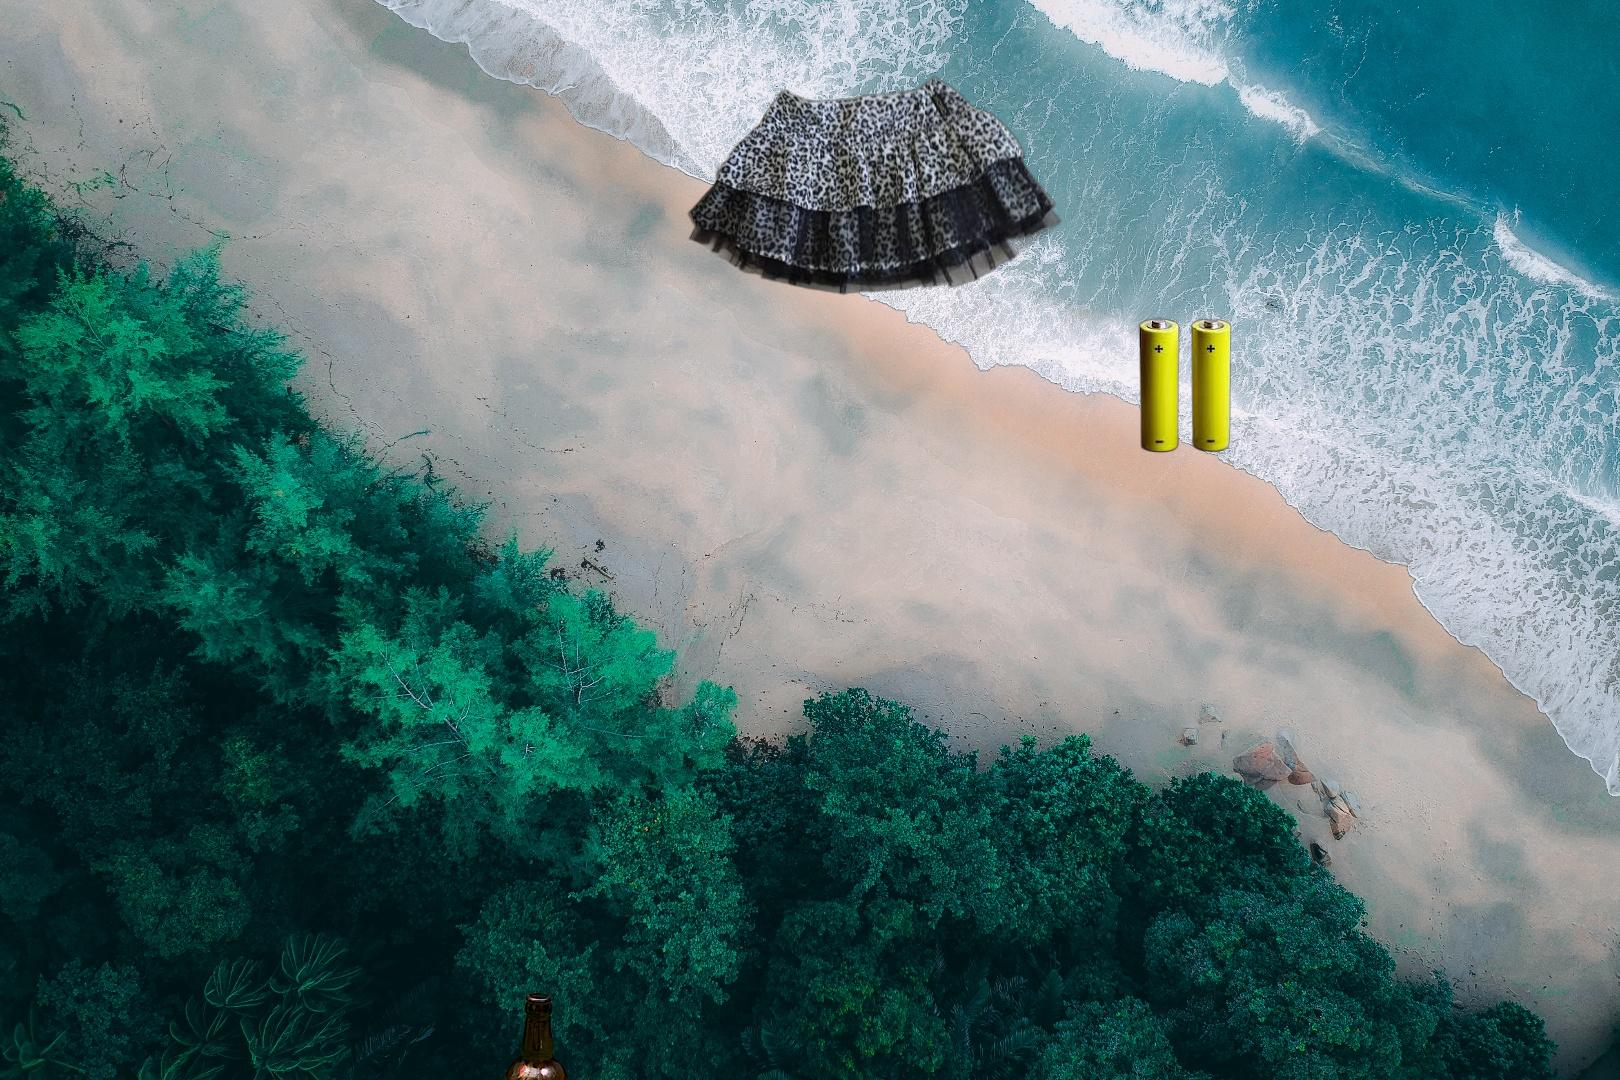battery: (1137, 315, 1234, 454)
clothes: (685, 74, 1064, 297)
glass: (315, 985, 573, 1080)
